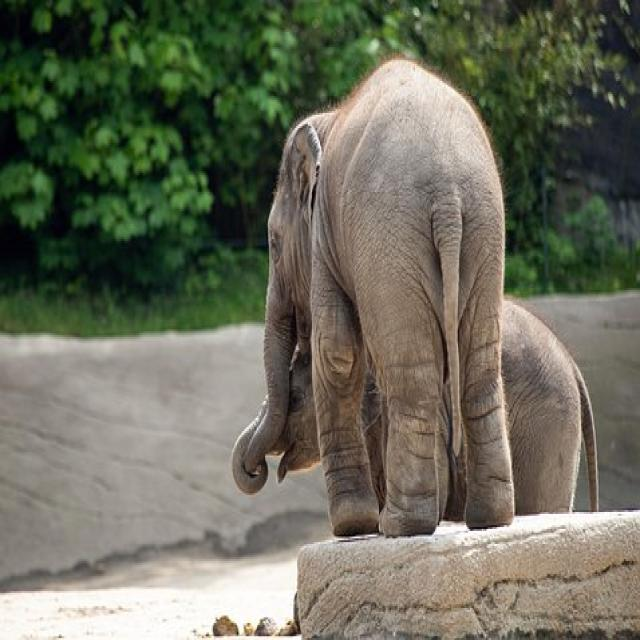Elephant: (245, 58, 524, 585)
